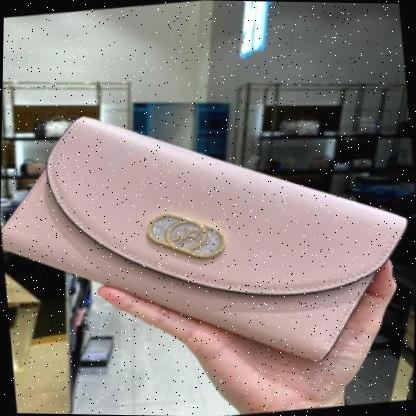bag: (0, 108, 414, 368)
